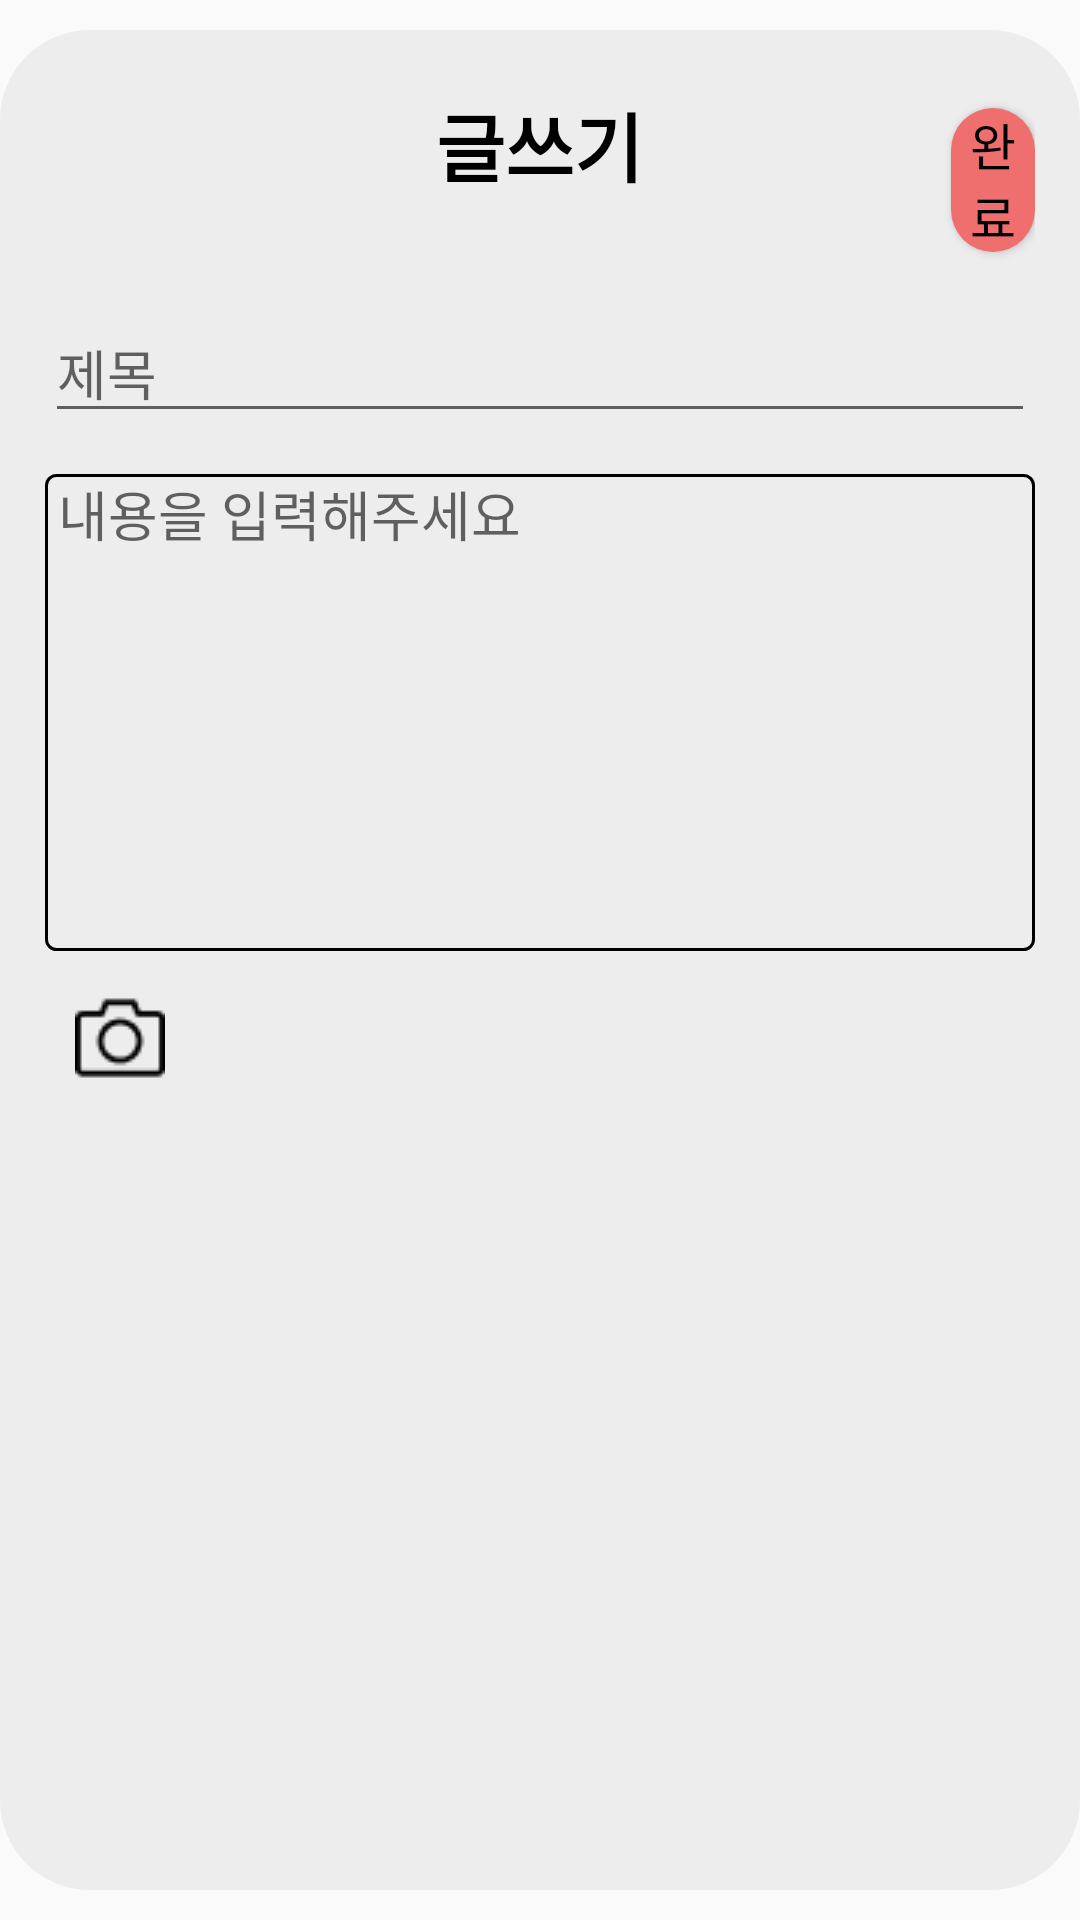

Screen size 1080px×1920px. Icon name, then its center in pixels as (x,y):
camera: (120,1038)
